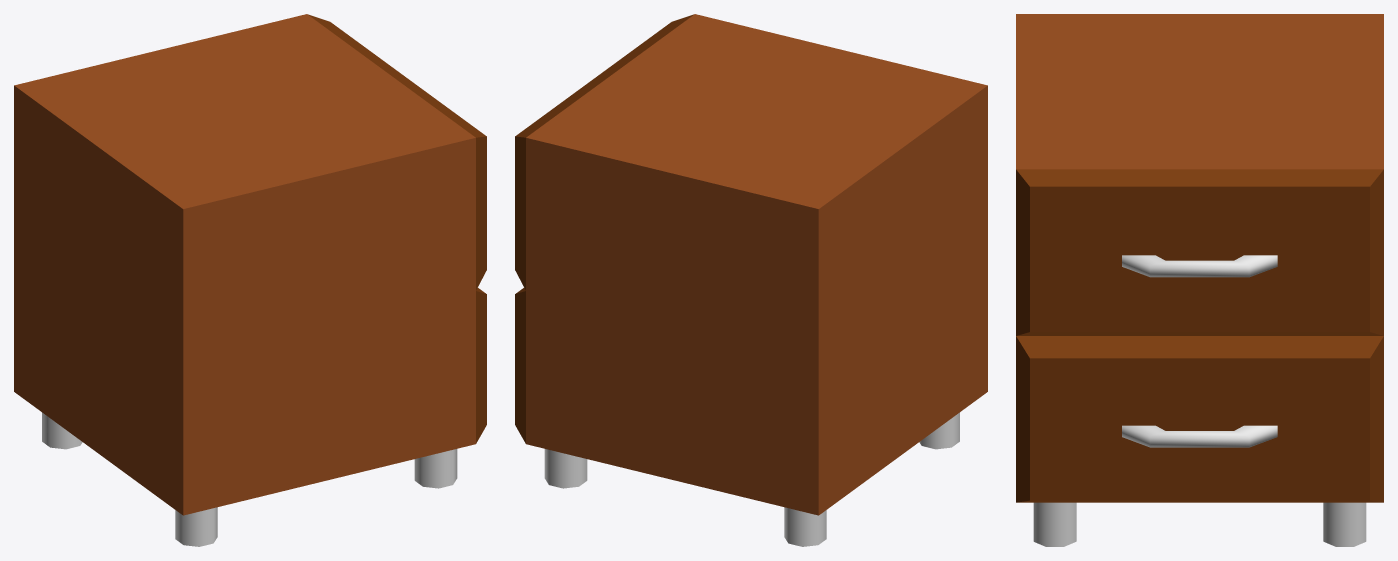
The model's file is тумба.fbx.
3 views of the same model, side by side, from view 1: azimuth 30°, elevation 25°; view 2: azimuth 150°, elevation 25°; view 3: azimuth 270°, elevation 25° (orthographic). The views are drawn at different scales.
Parts seen in each view (by area): view 1: тумба; view 2: тумба; view 3: тумба.
Part boxes in pixels (x1,y1,x2,y2): тумба: (14,14,486,546); тумба: (515,14,987,546); тумба: (1016,14,1383,546).
Bounding box in the file's own units: 72.18 × 73.1 × 64.08.
